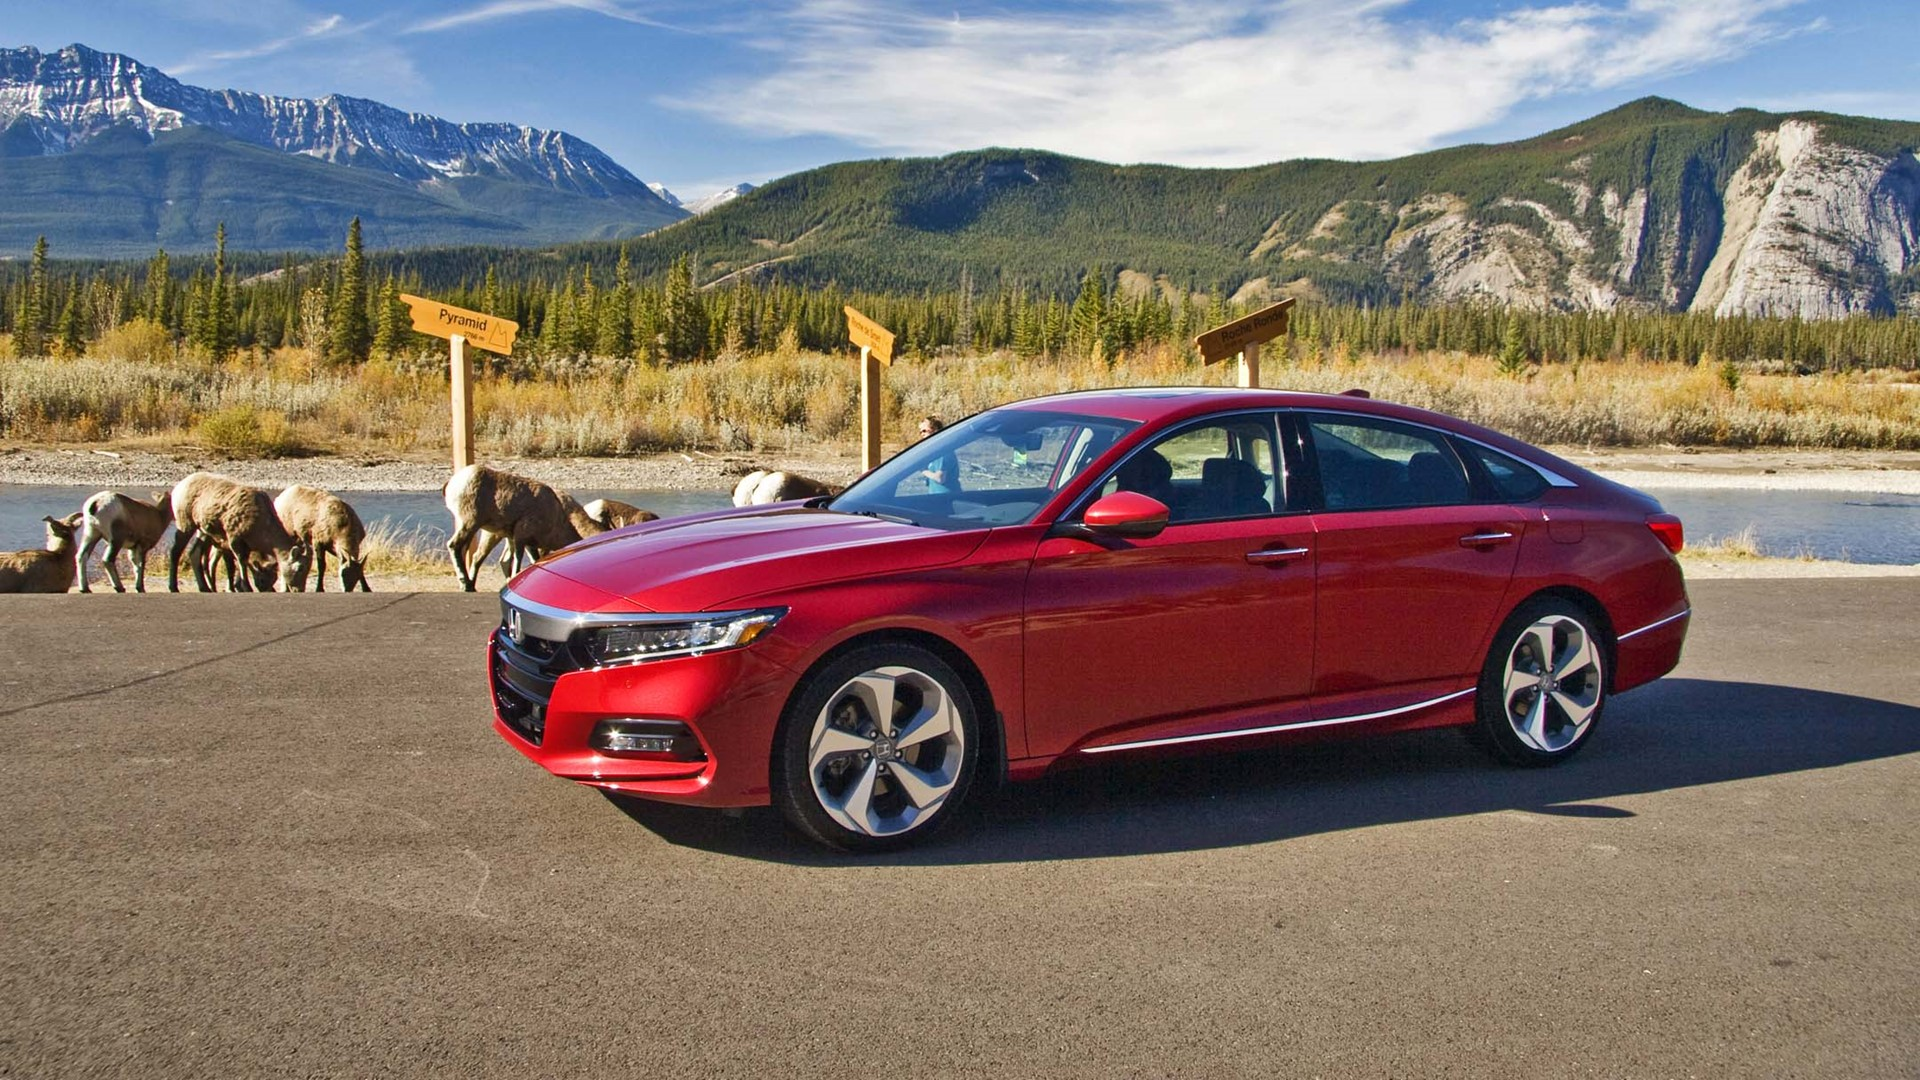accord: (465, 353, 1731, 845)
